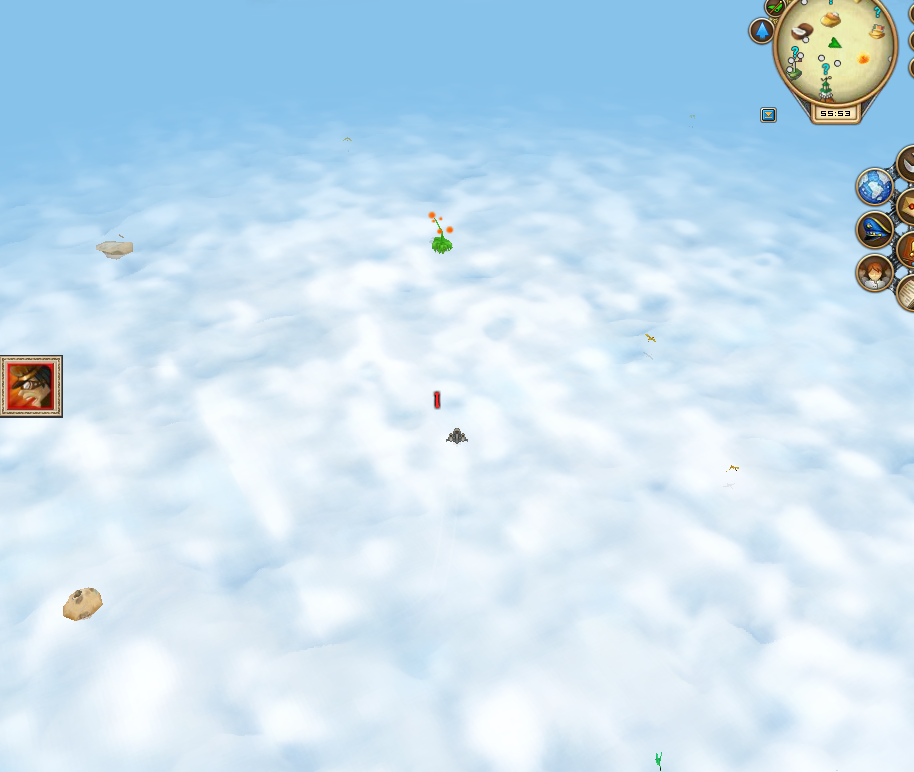dandelion-full: (423, 203, 457, 258)
